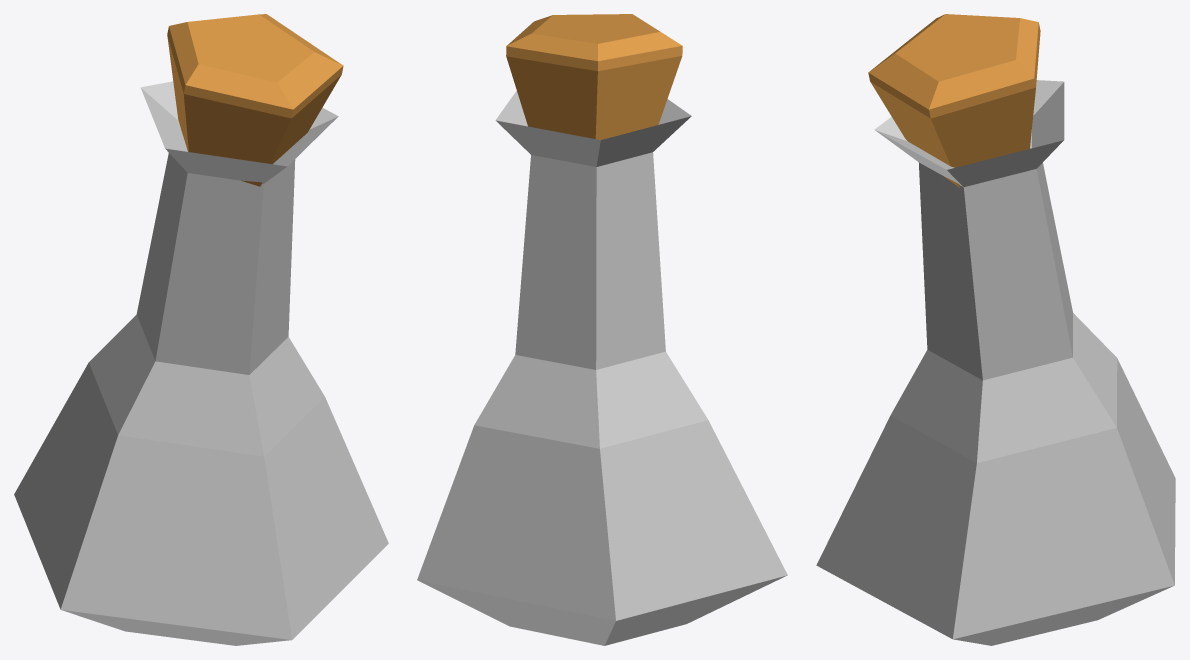
The model's file is potion_amarela.fbx.
3 views of the same model, side by side, from view 1: azimuth 30°, elevation 25°; view 2: azimuth 150°, elevation 25°; view 3: azimuth 270°, elevation 25° (orthographic).
Parts seen in each view (by area): view 1: group_631198464; view 2: group_631198464; view 3: group_631198464.
Boxes of the visible parts, box(x1,y1,x2,y2) form: group_631198464: box(14, 14, 388, 645); group_631198464: box(417, 14, 787, 645); group_631198464: box(816, 14, 1175, 645).
Size of the model in its own units: 18.06 by 31.08 by 17.11.
